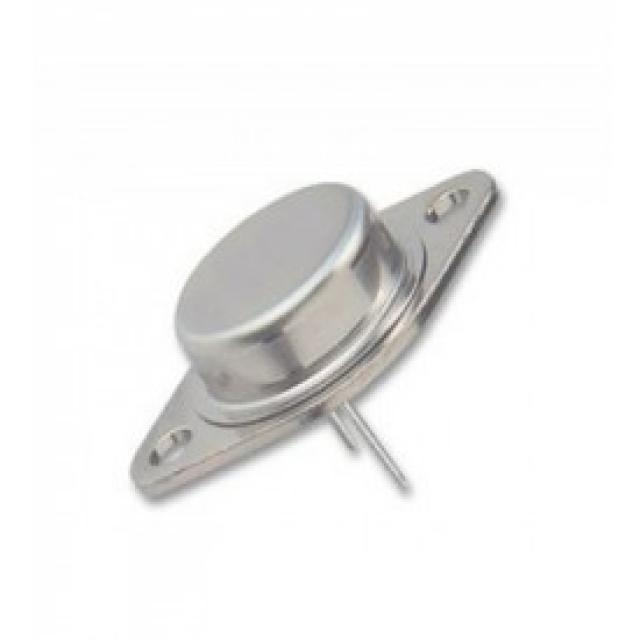Transistor: (126, 151, 510, 504)
